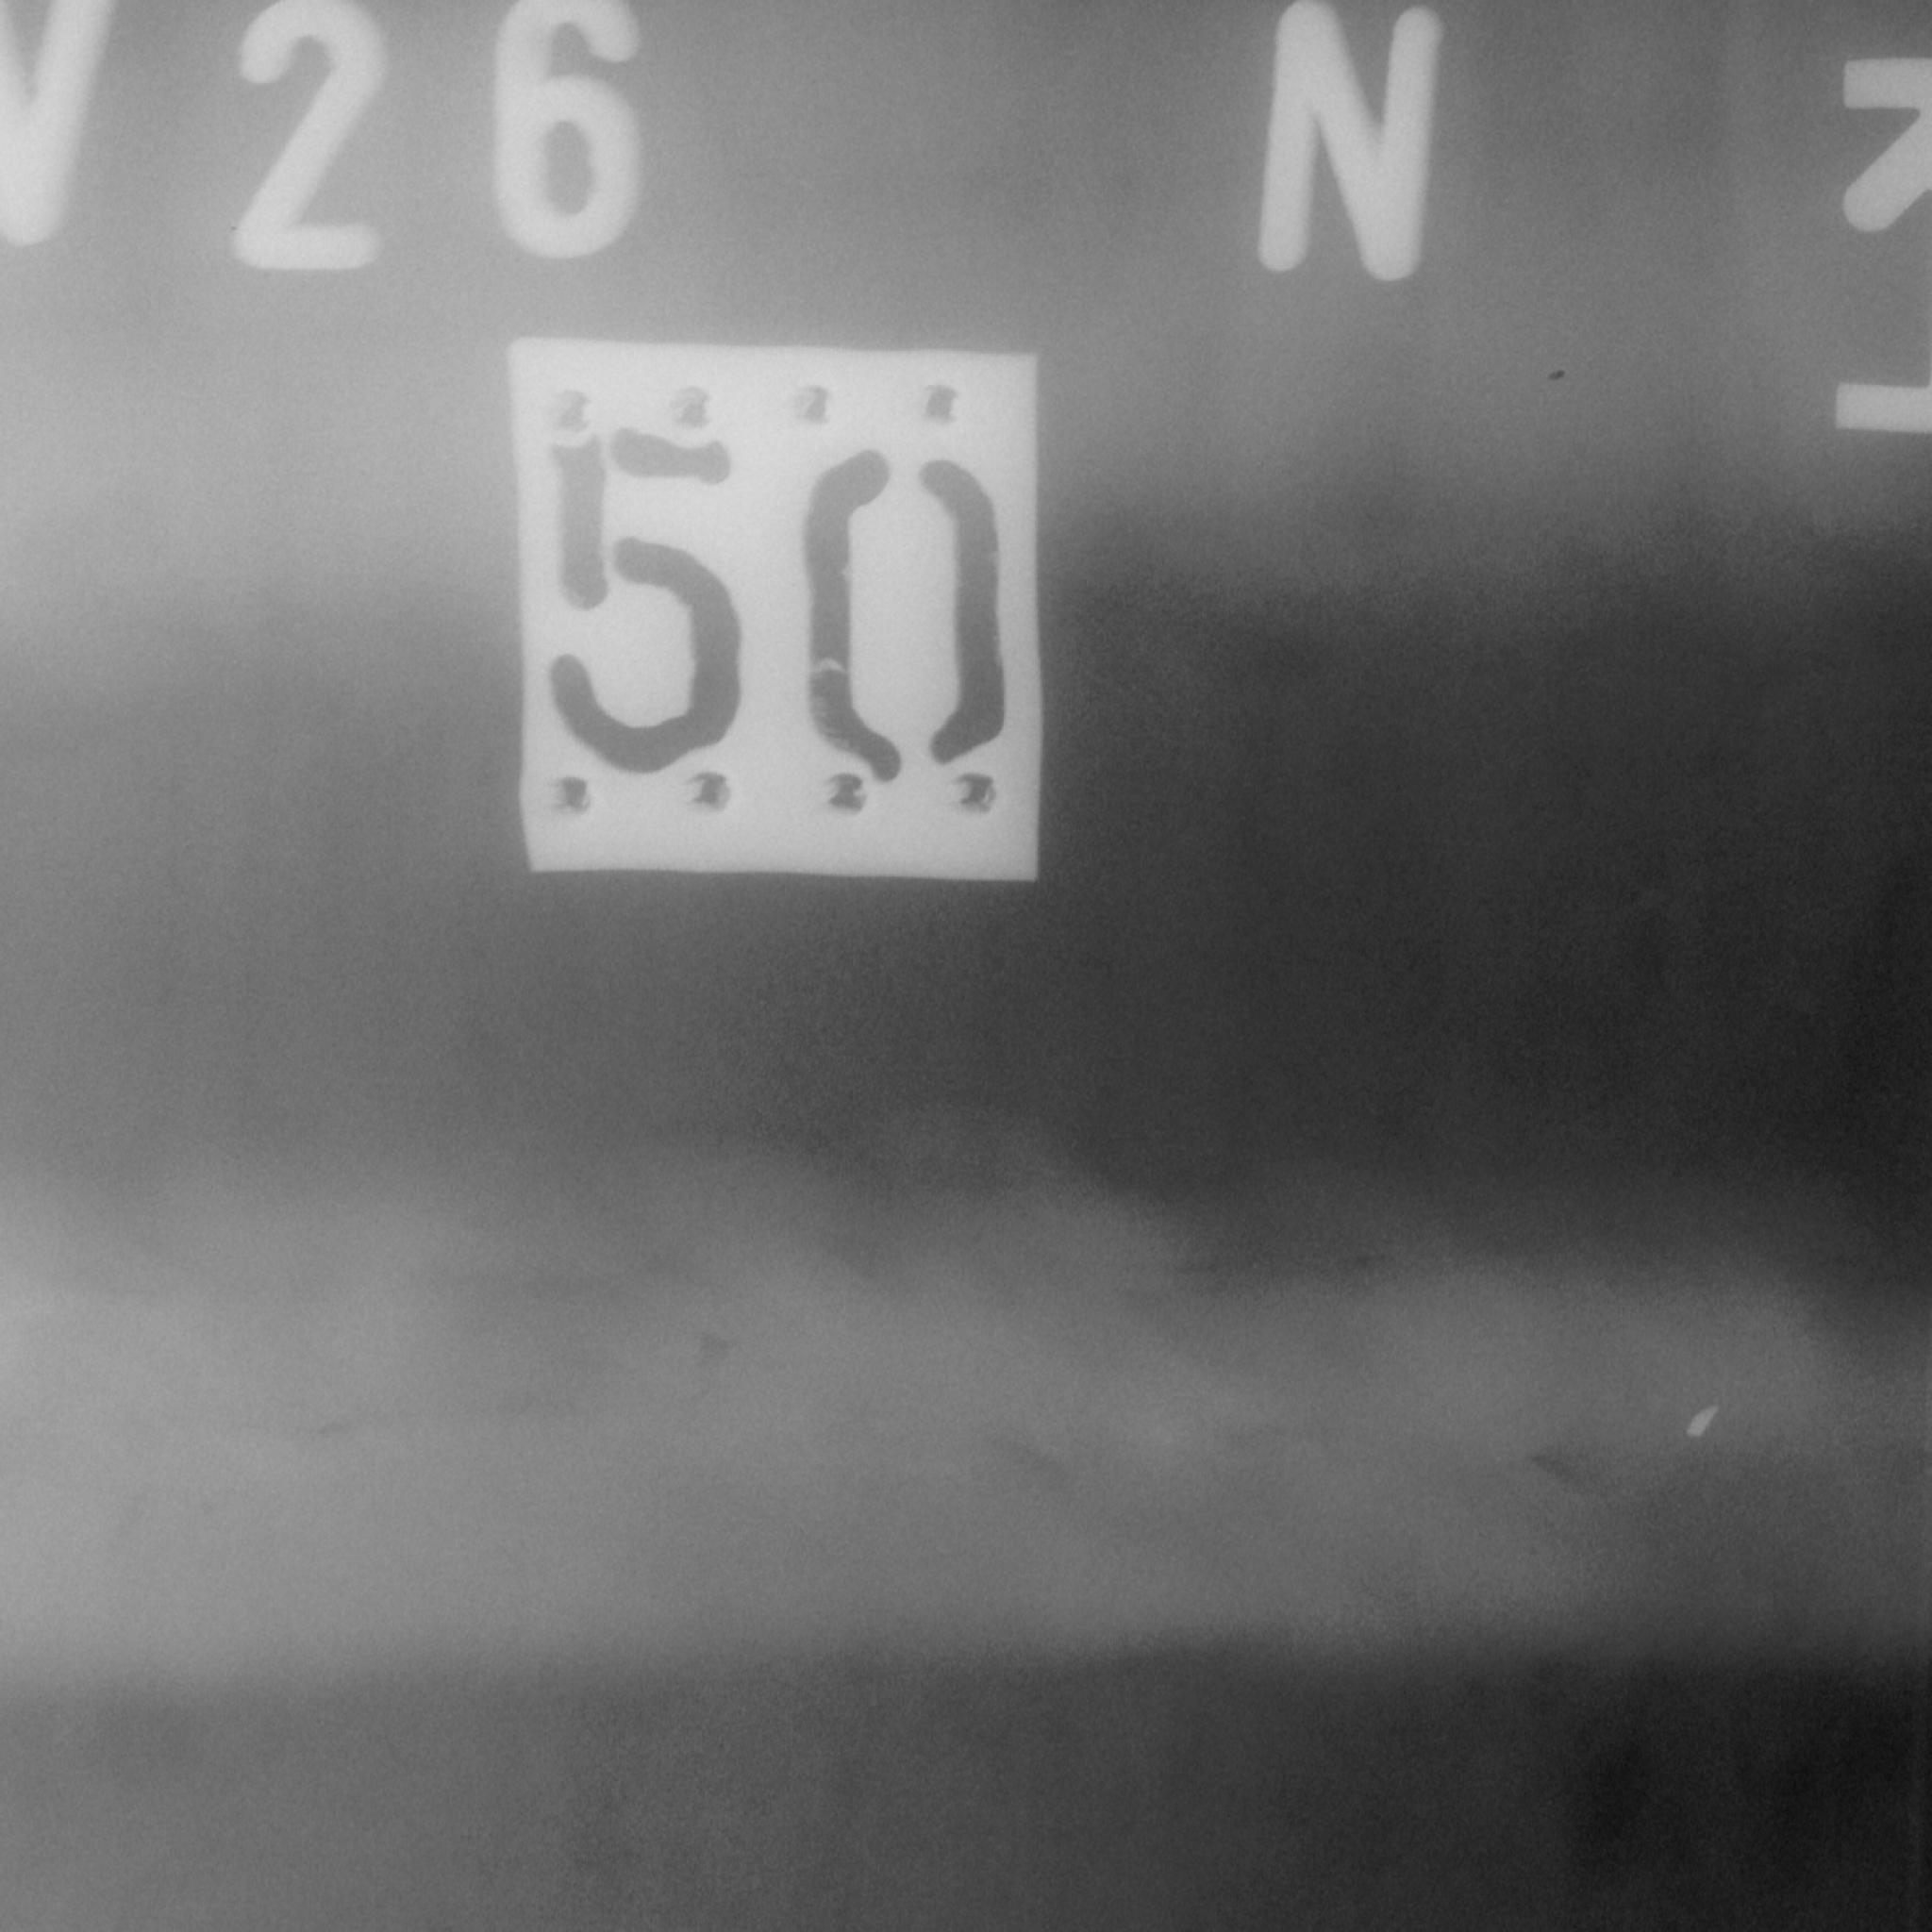Solda Ruim: (0, 1091, 1932, 1714)
